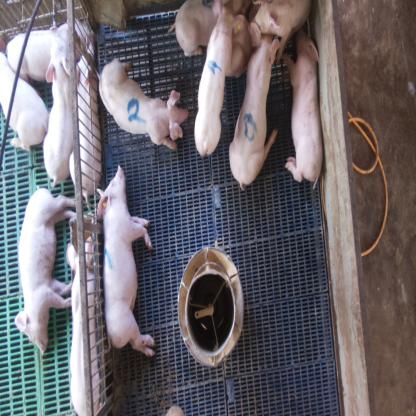1: (206, 57, 222, 74)
2: (127, 98, 146, 127)
N-A: (243, 114, 257, 141)
